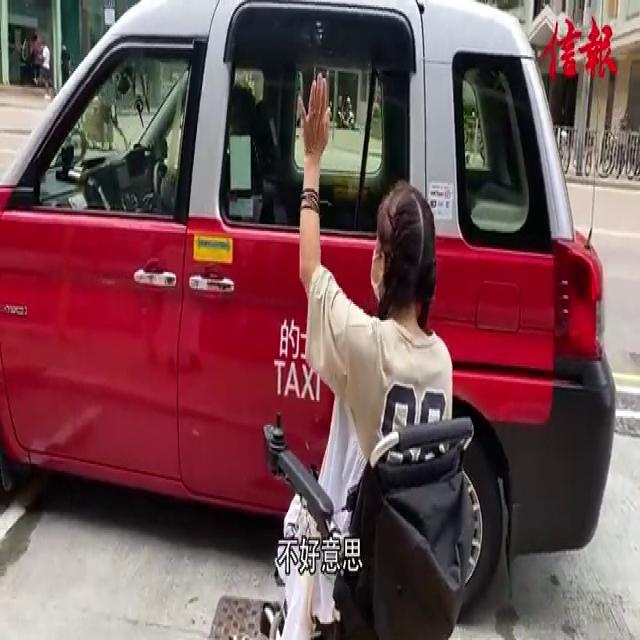wheelchairs: (252, 370, 479, 640)
